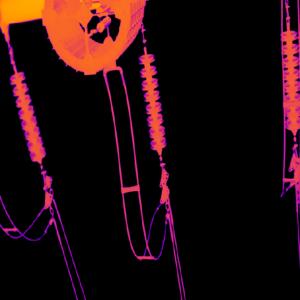insulator: (8, 71, 45, 163), (138, 50, 165, 153), (279, 30, 300, 135)
